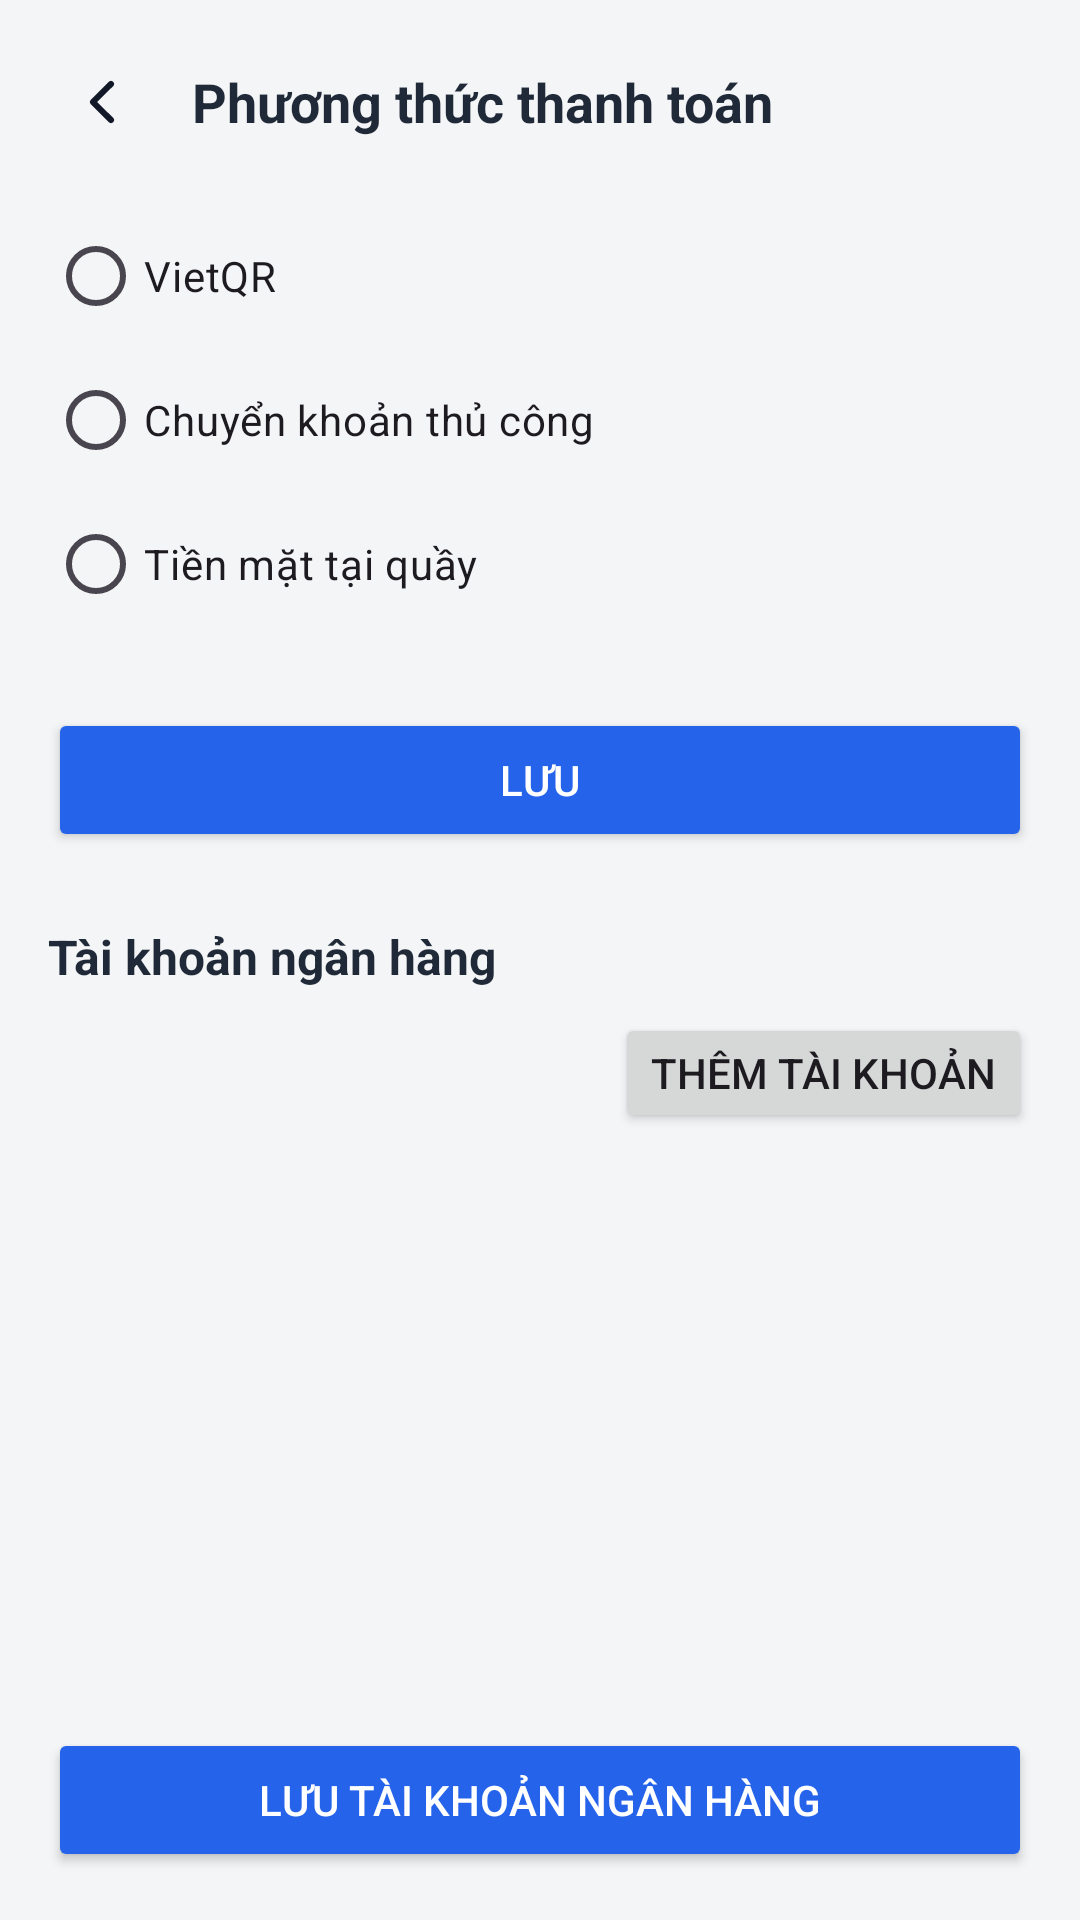

Where to tap for icons on this 1080px×1920px app screen, as [x,y]:
back: [102,102]
